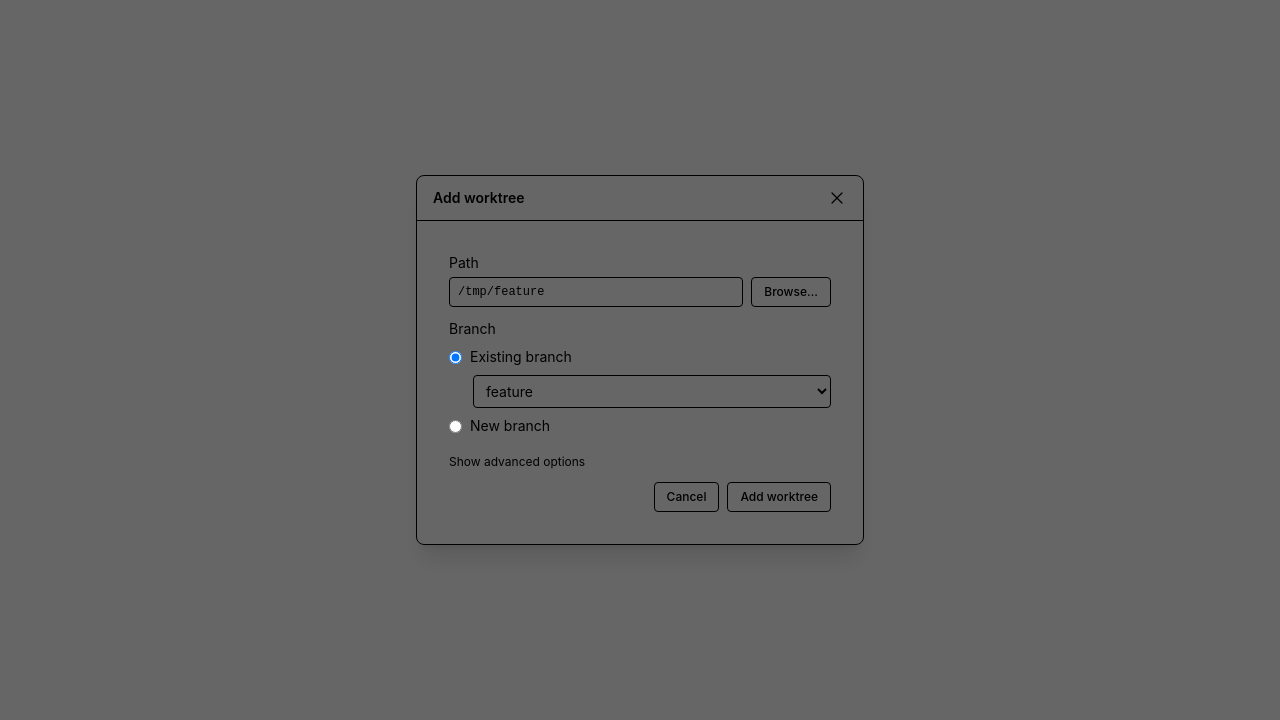
AddWorktreeModal › fills the path from the directory picker
Expected: the dropdown shows "feature", [473,375,831,408]
Click the button "Browse…".
click(791, 292)  # box [751,277,831,307]
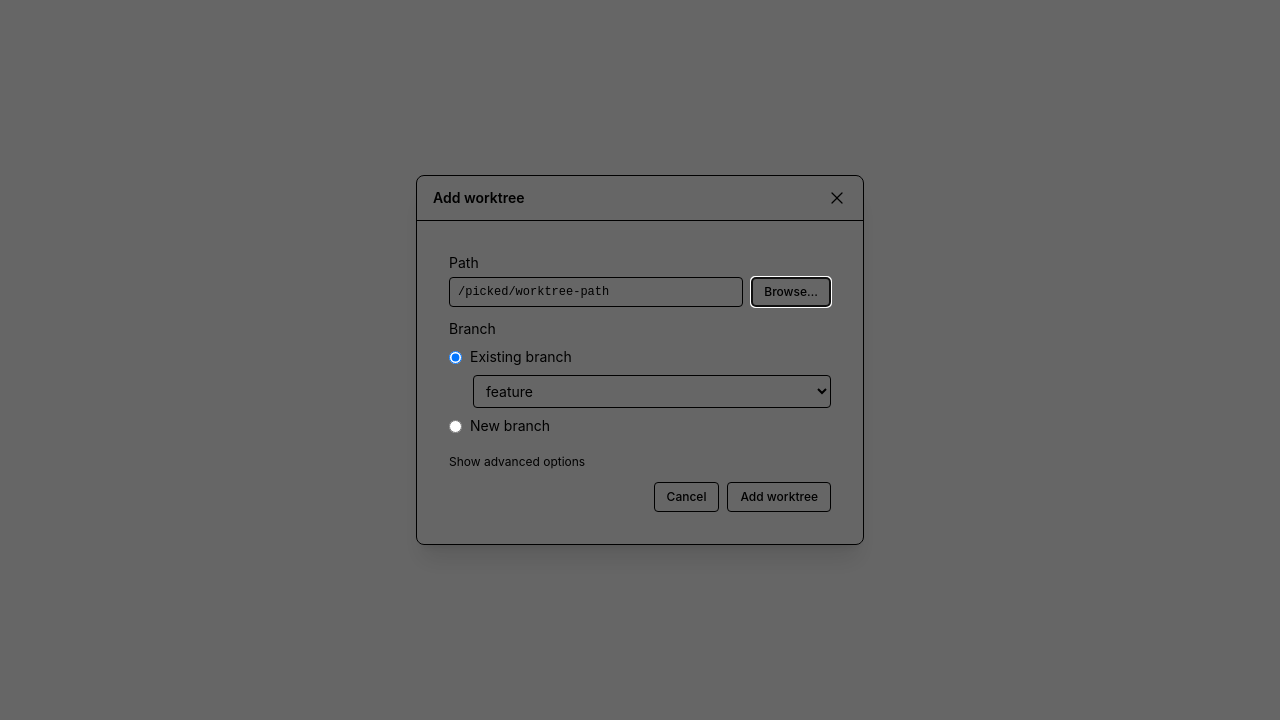
Expected: the field showing "/picked/worktree-path" is shown, [449,277,743,307]
